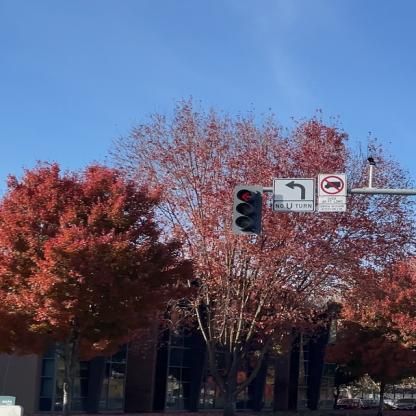left-red: (231, 185, 265, 236)
